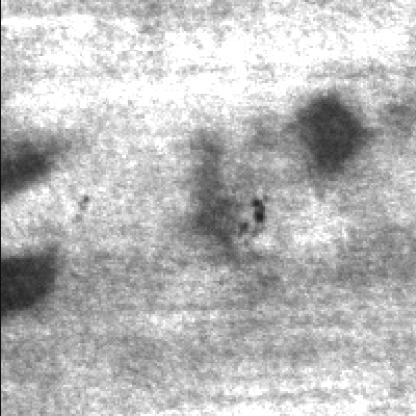patches: (285, 100, 366, 196), (0, 256, 58, 324), (0, 140, 48, 206)
